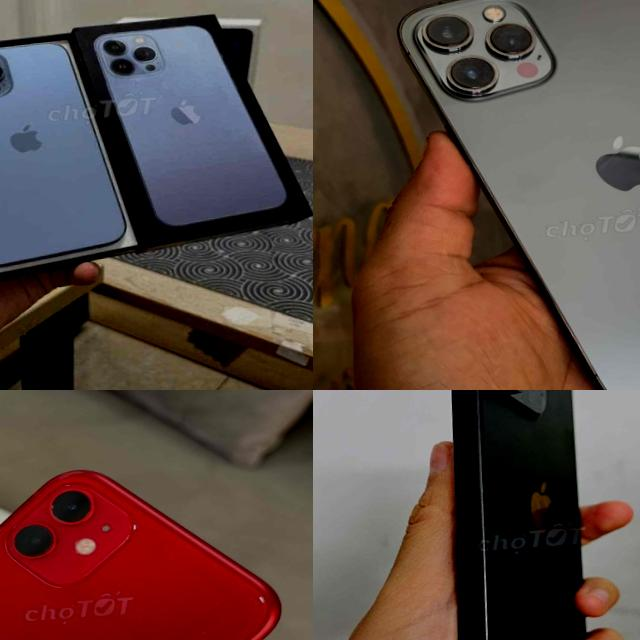gen_11: (0, 444, 300, 640)
gen_12_13: (389, 0, 640, 390), (0, 33, 128, 270)
gen_15: (410, 390, 631, 640)
